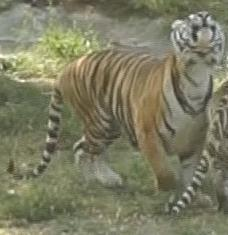tiger: (34, 12, 223, 211)
